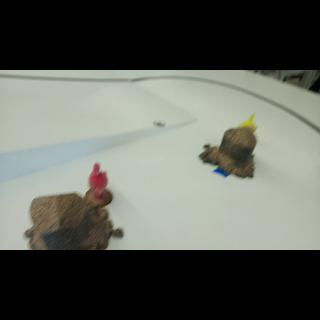teletubby: (89, 163, 108, 200), (238, 113, 257, 133)
